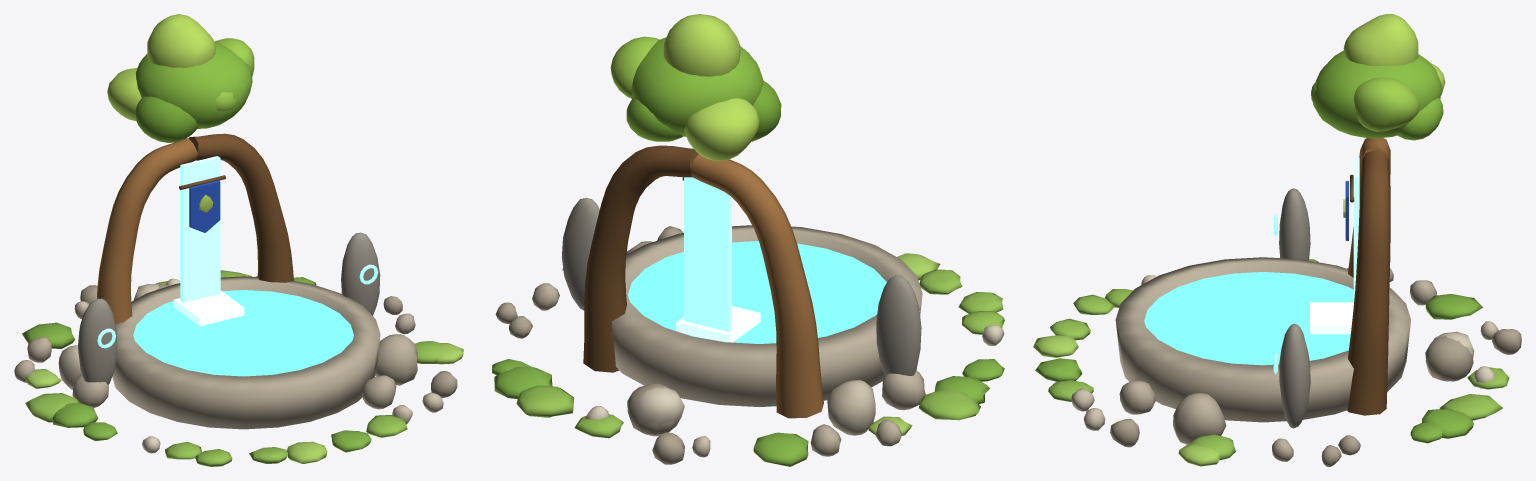
File: b_moonwell.glb
The picture shows the model from 3 angles, left to right: view 1: azimuth 30°, elevation 25°; view 2: azimuth 150°, elevation 25°; view 3: azimuth 270°, elevation 25°; orthographic projection. The views are drawn at different scales.
Visible parts, largest first — view 1: root_matte#b8ad98, pool, archRoot-1, root_matte#74502c, root_matte#86bc40, root_matte#9a9488, root_matte#b6dc5c, fall, root_matte#94c252, root_matte#7fb243, archCanopyC3, root_matte#a8d060 (+6 smaller); view 2: root_matte#b8ad98, pool, archRoot-1, root_matte#74502c, root_matte#b6dc5c, root_matte#86bc40, fall, root_matte#9a9488, root_matte#94c252, root_matte#7fb243, root_matte#a99e8a, root_matte#c9bea8 (+5 smaller); view 3: root_matte#b8ad98, pool, root_matte#74502c, root_matte#86bc40, root_matte#9a9488, root_matte#94c252, root_matte#a99e8a, root_matte#7fb243, root_matte#b6dc5c, root_matte#9ccc4c, root_matte#a8d060, splash (+4 smaller).
Boxes of the visible parts, bbox=[...] form: root_matte#b8ad98: bbox=[14, 276, 417, 429]; pool: bbox=[133, 290, 353, 376]; archRoot-1: bbox=[97, 138, 197, 324]; root_matte#74502c: bbox=[179, 133, 293, 282]; root_matte#86bc40: bbox=[135, 42, 252, 128]; root_matte#9a9488: bbox=[78, 232, 380, 384]; root_matte#b6dc5c: bbox=[107, 14, 215, 212]; fall: bbox=[180, 156, 220, 302]; root_matte#94c252: bbox=[25, 270, 442, 466]; root_matte#7fb243: bbox=[22, 276, 371, 452]; archCanopyC3: bbox=[135, 96, 198, 142]; root_matte#a8d060: bbox=[25, 343, 463, 463]; root_matte#b8ad98: bbox=[532, 225, 925, 456]; pool: bbox=[628, 241, 886, 343]; archRoot-1: bbox=[690, 154, 823, 418]; root_matte#74502c: bbox=[583, 145, 698, 372]; root_matte#b6dc5c: bbox=[663, 14, 759, 160]; root_matte#86bc40: bbox=[626, 37, 763, 141]; fall: bbox=[684, 177, 731, 331]; root_matte#9a9488: bbox=[561, 197, 921, 375]; root_matte#94c252: bbox=[516, 269, 1004, 438]; root_matte#7fb243: bbox=[492, 359, 1004, 466]; root_matte#a99e8a: bbox=[495, 226, 684, 464]; root_matte#c9bea8: bbox=[692, 379, 875, 457]; root_matte#b8ad98: bbox=[1115, 257, 1436, 461]; pool: bbox=[1144, 272, 1353, 365]; root_matte#74502c: bbox=[1347, 150, 1390, 415]; root_matte#86bc40: bbox=[1313, 50, 1443, 140]; root_matte#9a9488: bbox=[1279, 188, 1310, 428]; root_matte#94c252: bbox=[1048, 259, 1509, 460]; root_matte#a99e8a: bbox=[1110, 329, 1521, 466]; root_matte#7fb243: bbox=[1035, 294, 1482, 443]; root_matte#b6dc5c: bbox=[1343, 14, 1445, 217]; root_matte#9ccc4c: bbox=[1311, 77, 1419, 131]; root_matte#a8d060: bbox=[1033, 335, 1220, 466]; splash: bbox=[1310, 302, 1353, 334].
Bounding box in the file's own units: 3.12 × 2.55 × 3.14.
